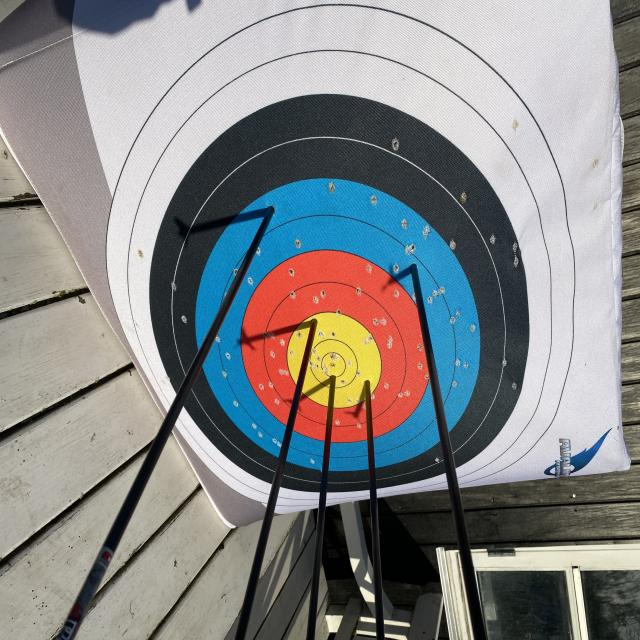Arrow_Blue: (245, 185, 292, 239), (392, 244, 434, 298)
Arrow_Yellow: (298, 302, 336, 358), (350, 358, 379, 412), (319, 354, 345, 406)
